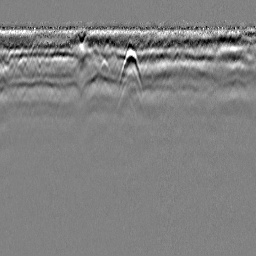cavity: (118, 48, 145, 89)
